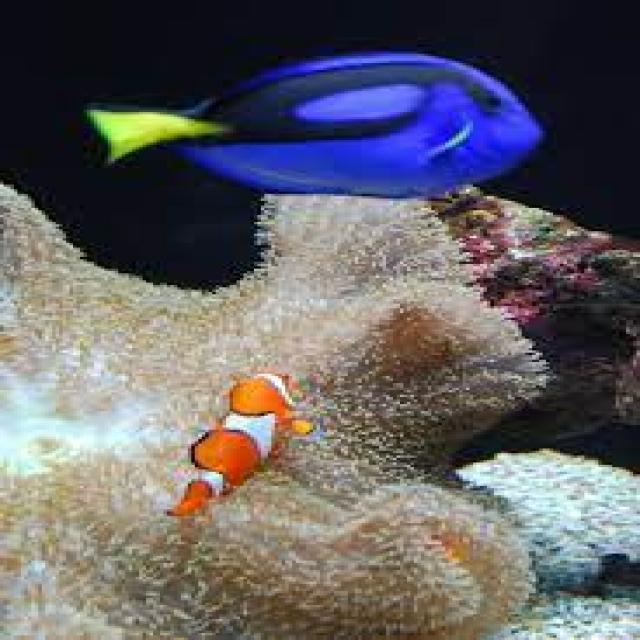BlueTang: (91, 55, 548, 189)
ClownFish: (170, 368, 311, 517)
